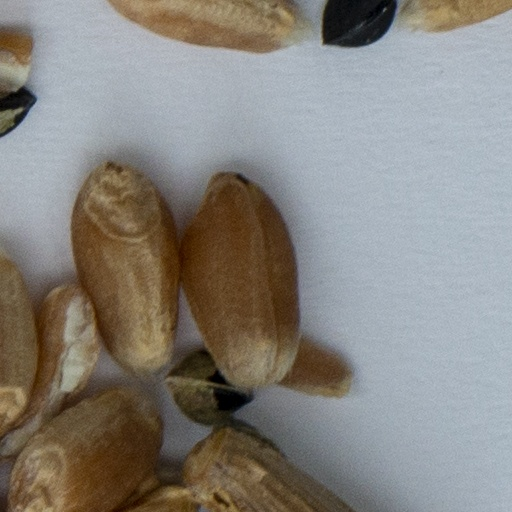Fallopia-Convolvulus-poly: (168, 355, 246, 428), (323, 0, 395, 46), (0, 90, 33, 135)
Wheat-grain-damaged-poly: (0, 30, 35, 91)
